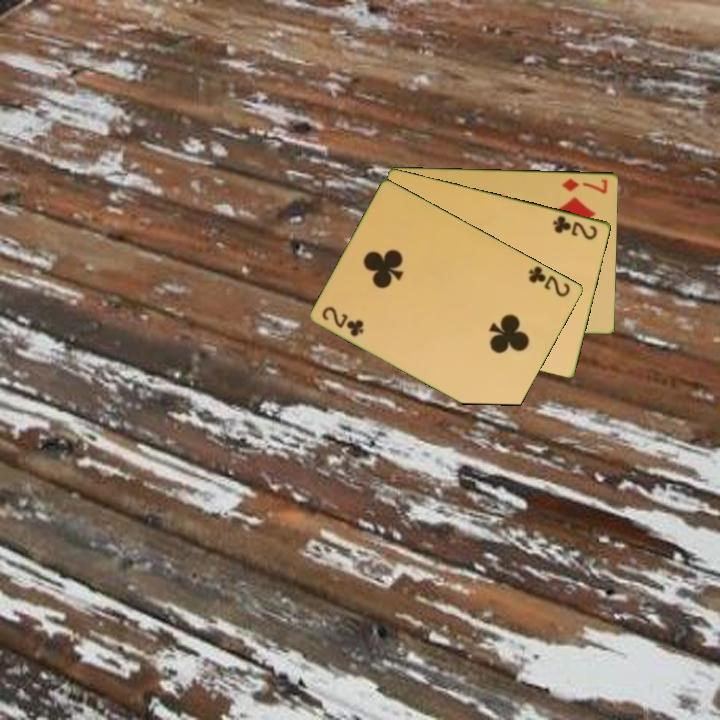2c: (525, 262, 574, 300), (319, 303, 367, 339), (549, 212, 601, 242)
7d: (559, 175, 610, 196)
